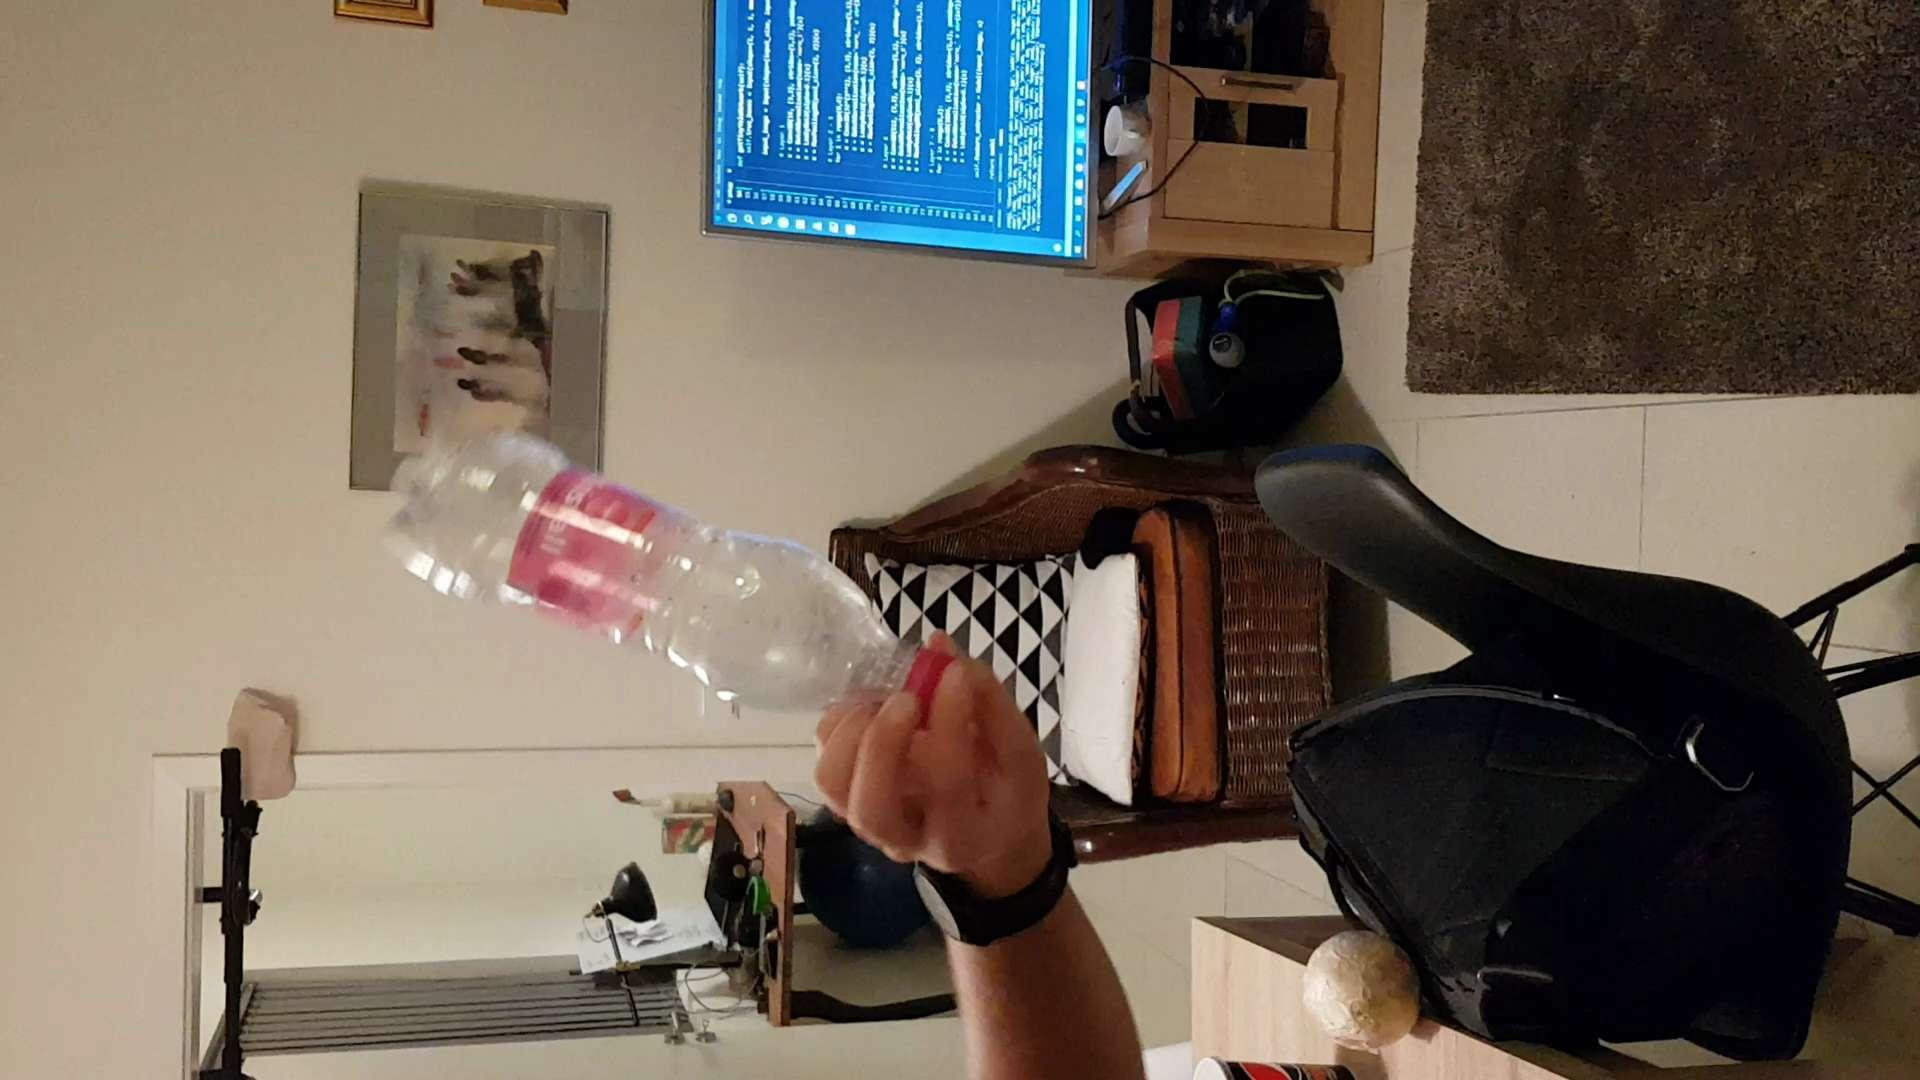Bottle: (389, 400, 969, 723)
